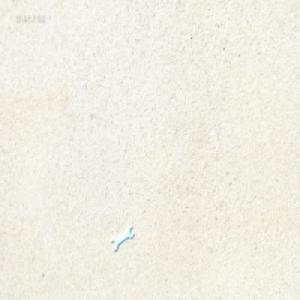Wrench: (111, 224, 134, 252)
